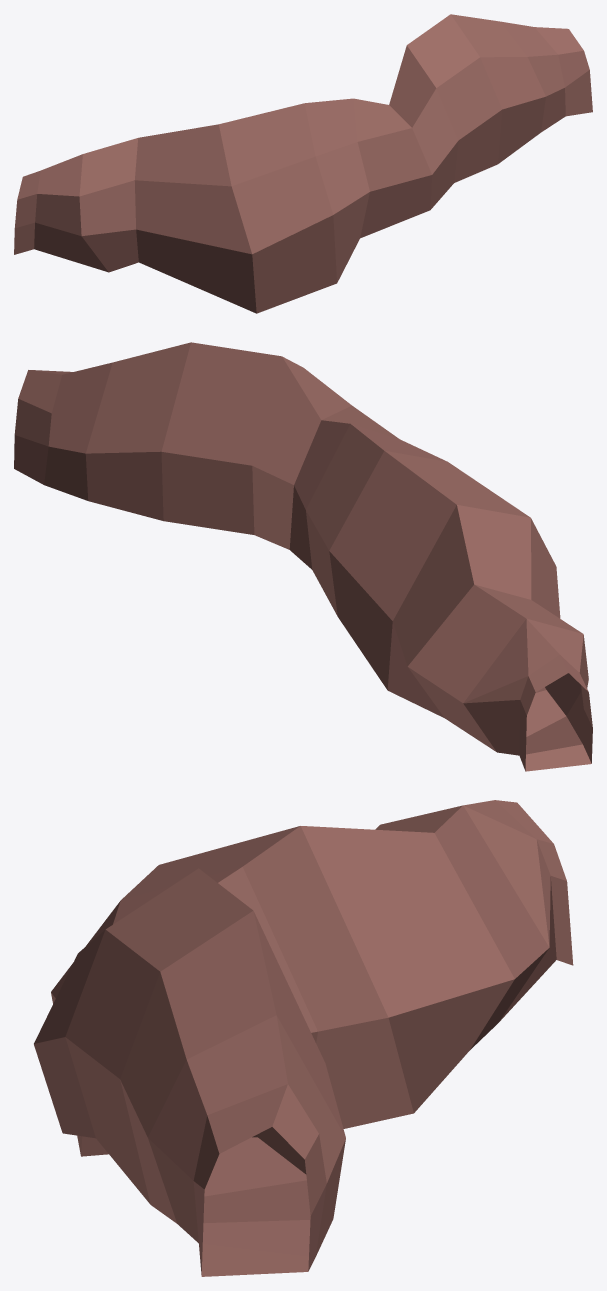
The model's file is Tunnel-A04.fbx.
The picture shows the model from 3 angles, top to bottom: view 1: azimuth 30°, elevation 25°; view 2: azimuth 150°, elevation 25°; view 3: azimuth 270°, elevation 25°; orthographic projection. The views are drawn at different scales.
Parts seen in each view (by area): view 1: Tunnel-A04; view 2: Tunnel-A04; view 3: Tunnel-A04.
Part boxes in pixels (box(x1,y1,x2,y2)): Tunnel-A04: box(14, 14, 592, 313); Tunnel-A04: box(14, 342, 592, 771); Tunnel-A04: box(34, 800, 573, 1276).
Size of the model in its own units: 1838 by 758 by 851.
